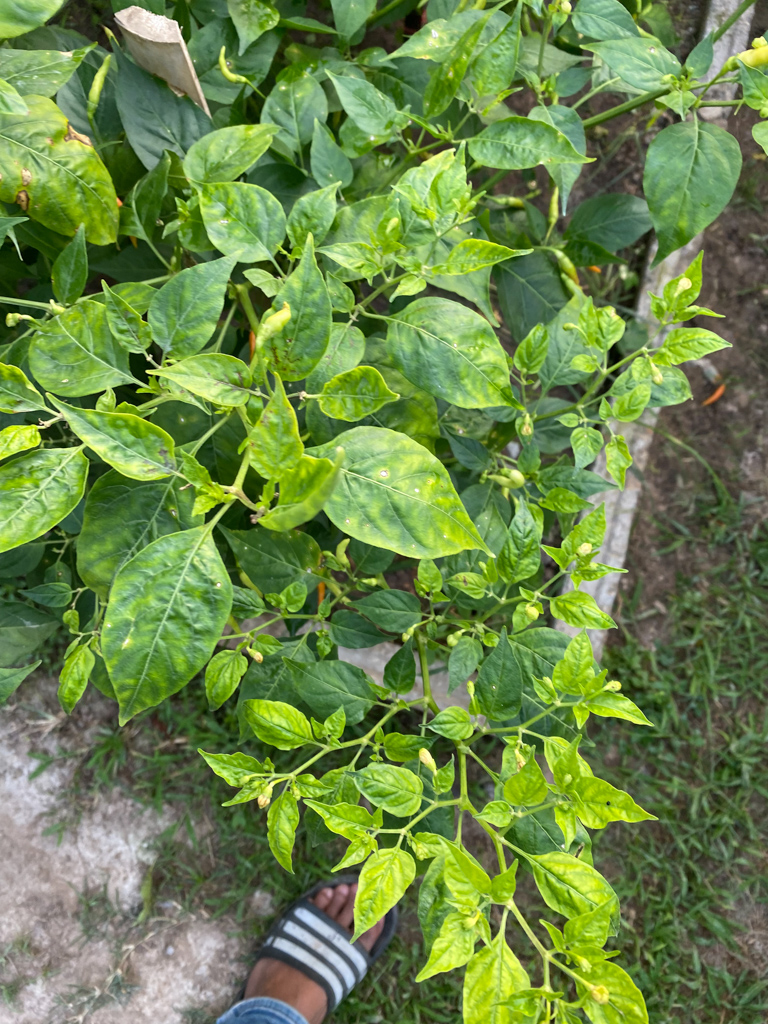frog-eye leafspot: (375, 465, 391, 483), (315, 554, 328, 572), (445, 64, 455, 82), (423, 475, 437, 486), (412, 486, 420, 493)
